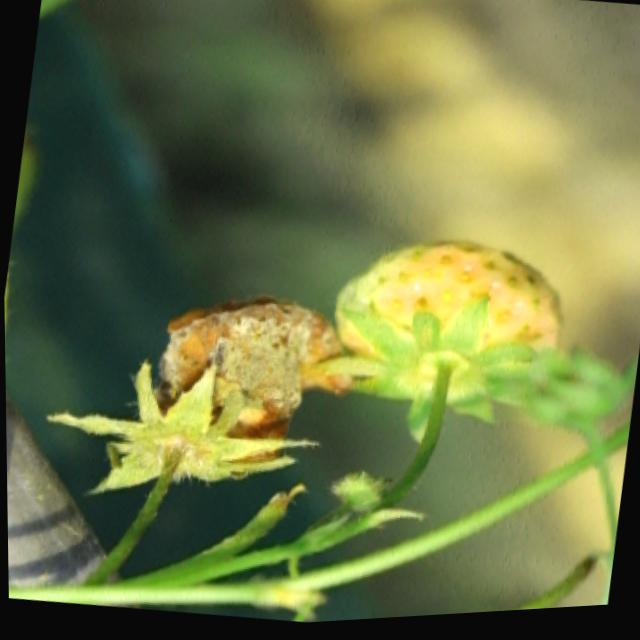Gray Mold: (44, 299, 353, 497)
